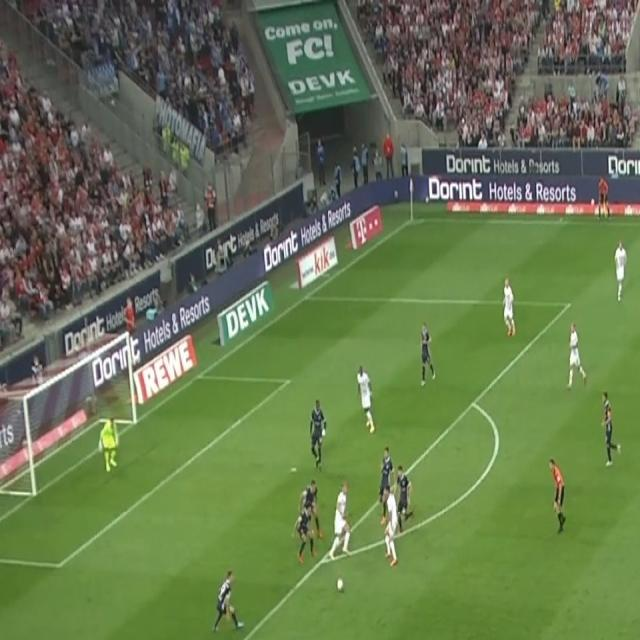ball: (335, 576, 345, 594)
